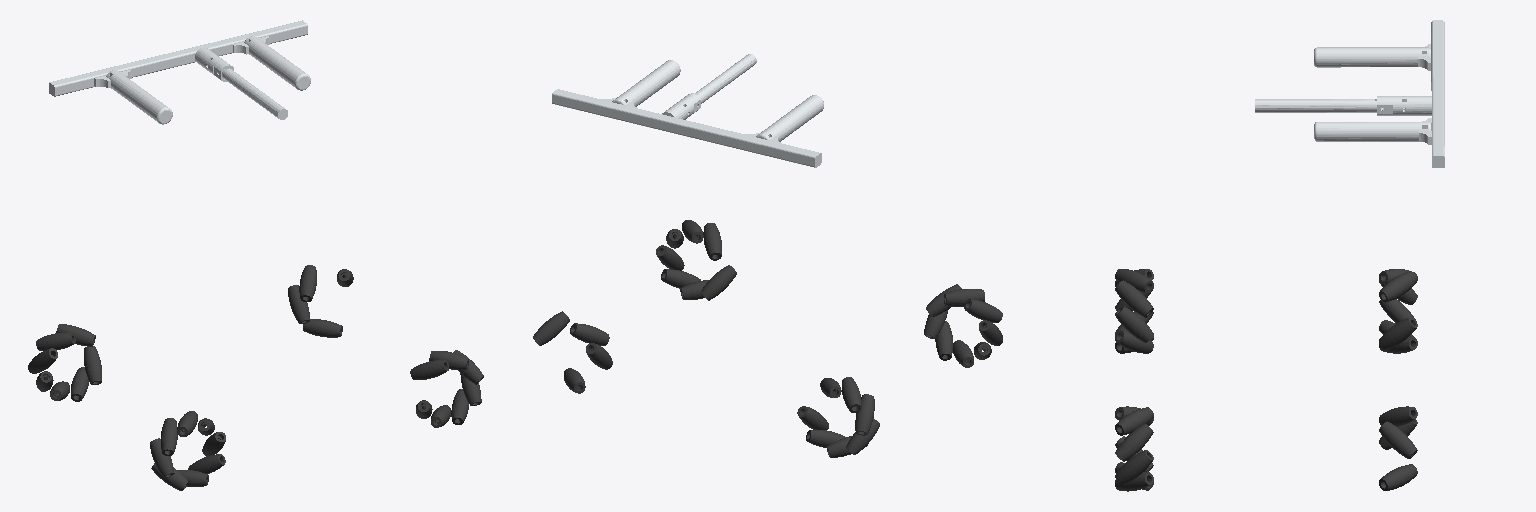
--- Render facts (derived) ---
The picture shows the robot from 3 angles, left to right: view 1: azimuth 30°, elevation 25°; view 2: azimuth 150°, elevation 25°; view 3: azimuth 270°, elevation 25°; orthographic projection.
Model Mobile_Base_Holder_6 with 39 links and 38 joints (36 continuous, 2 prismatic), rooted at Mobile_Base, posed all joints at 0.
Links seen in each view (by area): view 1: Pin_Head_L, Roller_LF_6, Roller_LR_8, Roller_RF_5, Roller_LR_3, Roller_RR_8, Roller_LF_3, Roller_LF_4; view 2: Pin_Head_L, Roller_RF_7, Roller_LF_1, Roller_LR_4, Roller_LF_3, Roller_RR_8, Roller_RF_5, Roller_RR_7, Roller_LR_3; view 3: Pin_Head_L, Roller_LF_1, Roller_RF_3, Roller_RR_6, Roller_RR_5, Roller_RF_2, Roller_LR_8, Roller_LR_2, Roller_LF_6, Roller_RF_4, Roller_LF_3, Roller_RR_7 (+1 smaller).
Boxes of the visible links, x1,y1,x2,y2 form: Pin_Head_L: (49, 20, 310, 124); Roller_LF_6: (303, 319, 342, 337); Roller_LR_8: (84, 346, 101, 384); Roller_RF_5: (410, 360, 448, 379); Roller_LR_3: (36, 333, 75, 350); Roller_RR_8: (161, 418, 177, 455); Roller_LF_3: (299, 265, 316, 301); Roller_LF_4: (288, 285, 309, 323); Pin_Head_L: (552, 54, 823, 167); Roller_RF_7: (700, 265, 736, 300); Roller_LF_1: (533, 311, 569, 345); Roller_LR_4: (855, 394, 874, 435); Roller_LF_3: (570, 323, 609, 345); Roller_RR_8: (964, 299, 1002, 322); Roller_RF_5: (703, 223, 721, 260); Roller_RR_7: (944, 289, 984, 306); Roller_LR_3: (842, 377, 861, 412); Pin_Head_L: (1255, 20, 1444, 167); Roller_LF_1: (1379, 421, 1417, 458); Roller_RF_3: (1115, 424, 1153, 461); Roller_RR_6: (1115, 280, 1153, 317); Roller_RR_5: (1115, 306, 1153, 342); Roller_RF_2: (1115, 450, 1153, 484); Roller_LR_8: (1379, 317, 1417, 349); Roller_LR_2: (1379, 271, 1417, 302); Roller_LF_6: (1379, 464, 1417, 490); Roller_RF_4: (1115, 407, 1153, 435); Roller_LF_3: (1379, 406, 1417, 426); Roller_RR_7: (1115, 269, 1153, 292).
Bounding box of the posed robot: 0.6137 × 0.4931 × 0.549 m (x, y, z).
Meshes: 39 distinct files referenced, 27 mesh visuals loaded (27 binary STL); not drawn: 12 (reference not matched to a file when rendering).

The robot description file, URDF, robot "Mobile_Base_Holder_6":
<?xml version="1.0" encoding="utf-8"?>
<!-- This URDF was automatically created by SolidWorks to URDF Exporter! Originally created by Stephen Brawner ([email redacted]) 
     Commit Version: 1.6.0-4-g7f85cfe  Build Version: 1.6.7995.38578
     For more information, please see http://wiki.ros.org/sw_urdf_exporter -->
<robot
  name="Mobile_Base_Holder_6">
  <link
    name="Mobile_Base">
    <inertial>
      <origin
        xyz="0.00270794889201253 0.000926242394781646 -0.128115066829716"
        rpy="0 0 0" />
      <mass
        value="13.0496430135498" />
      <inertia
        ixx="0.078428885336732"
        ixy="-0.000424260125405416"
        ixz="-4.99662127671641E-08"
        iyy="0.101100659734584"
        iyz="-1.90955777107521E-07"
        izz="0.156190952643998" />
    </inertial>
    <visual>
      <origin
        xyz="0 0 0"
        rpy="0 0 0" />
      <geometry>
        <mesh
          filename="package://Mobile_Base_Holder_6/meshes/Mobile_Base.STL" />
      </geometry>
      <material
        name="">
        <color
          rgba="0.792156862745098 0.819607843137255 0.933333333333333 1" />
      </material>
    </visual>
    <collision>
      <origin
        xyz="0 0 0"
        rpy="0 0 0" />
      <geometry>
        <mesh
          filename="package://Mobile_Base_Holder_6/meshes/Mobile_Base.STL" />
      </geometry>
    </collision>
  </link>
  <link
    name="Wheel_LF">
    <inertial>
      <origin
        xyz="-3.68604325448052E-05 8.74696815872378E-06 -0.000155511793327234"
        rpy="0 0 0" />
      <mass
        value="0.77404110274982" />
      <inertia
        ixx="0.00055506881532458"
        ixy="2.15732280355355E-07"
        ixz="-1.8565434672159E-10"
        iyy="0.000555930826369469"
        iyz="2.2728326005673E-10"
        izz="0.00098890621085001" />
    </inertial>
    <visual>
      <origin
        xyz="0 0 0"
        rpy="0 0 0" />
      <geometry>
        <mesh
          filename="package://Mobile_Base_Holder_6/meshes/Wheel_LF.STL" />
      </geometry>
      <material
        name="">
        <color
          rgba="0.898039215686275 0.917647058823529 0.929411764705882 1" />
      </material>
    </visual>
    <collision>
      <origin
        xyz="0 0 0"
        rpy="0 0 0" />
      <geometry>
        <mesh
          filename="package://Mobile_Base_Holder_6/meshes/Wheel_LF.STL" />
      </geometry>
    </collision>
  </link>
  <joint
    name="J_Wheel_LF"
    type="continuous">
    <origin
      xyz="0.243373703143014 0.196999999999994 -0.410500520826094"
      rpy="1.5707963267949 -0.698892577239709 0" />
    <parent
      link="Mobile_Base" />
    <child
      link="Wheel_LF" />
    <axis
      xyz="0 0 1" />
  </joint>
  <link
    name="Roller_LF_1">
    <inertial>
      <origin
        xyz="-3.83179044050053E-10 -5.66471425322845E-10 -6.83960459380017E-08"
        rpy="0 0 0" />
      <mass
        value="0.0352584429300114" />
      <inertia
        ixx="1.04260747160859E-05"
        ixy="-3.74986144430689E-16"
        ixz="3.16159847563384E-11"
        iyy="1.04260747162553E-05"
        iyz="-7.59166288672171E-12"
        izz="3.2461714596406E-06" />
    </inertial>
    <visual>
      <origin
        xyz="0 0 0"
        rpy="0 0 0" />
      <geometry>
        <mesh
          filename="package://Mobile_Base_Holder_6/meshes/Roller_LF_1.STL" />
      </geometry>
      <material
        name="">
        <color
          rgba="0.298039215686275 0.298039215686275 0.298039215686275 1" />
      </material>
    </visual>
    <collision>
      <origin
        xyz="0 0 0"
        rpy="0 0 0" />
      <geometry>
        <mesh
          filename="package://Mobile_Base_Holder_6/meshes/Roller_LF_1.STL" />
      </geometry>
    </collision>
  </link>
  <joint
    name="J_Roller_LF_1"
    type="continuous">
    <origin
      xyz="0.0495000000000021 0 0"
      rpy="0 0.785398163397682 1.57079632679483" />
    <parent
      link="Wheel_LF" />
    <child
      link="Roller_LF_1" />
    <axis
      xyz="0 0 -1" />
  </joint>
  <link
    name="Roller_LF_2">
    <inertial>
      <origin
        xyz="-3.09857084435095E-10 1.10555131715984E-09 -4.17113807937852E-08"
        rpy="0 0 0" />
      <mass
        value="0.0352584429300109" />
      <inertia
        ixx="1.04260761905346E-05"
        ixy="2.1024734179391E-16"
        ixz="-2.4788845569513E-11"
        iyy="1.04260761890094E-05"
        iyz="-2.10620761229012E-11"
        izz="3.2461714605291E-06" />
    </inertial>
    <visual>
      <origin
        xyz="0 0 0"
        rpy="0 0 0" />
      <geometry>
        <mesh
          filename="package://Mobile_Base_Holder_6/meshes/Roller_LF_2.STL" />
      </geometry>
      <material
        name="">
        <color
          rgba="0.298039215686275 0.298039215686275 0.298039215686275 1" />
      </material>
    </visual>
    <collision>
      <origin
        xyz="0 0 0"
        rpy="0 0 0" />
      <geometry>
        <mesh
          filename="package://Mobile_Base_Holder_6/meshes/Roller_LF_2.STL" />
      </geometry>
    </collision>
  </link>
  <joint
    name="J_Roller_LF_2"
    type="continuous">
    <origin
      xyz="0.0350017856687387 0.0350017856687551 0"
      rpy="0 0.785398163397817 2.35619449019253" />
    <parent
      link="Wheel_LF" />
    <child
      link="Roller_LF_2" />
    <axis
      xyz="0 0 -1" />
  </joint>
  <link
    name="Roller_LF_3">
    <inertial>
      <origin
        xyz="7.28457724696874E-09 2.76751460637215E-09 2.27604659563951E-08"
        rpy="0 0 0" />
      <mass
        value="0.0352584429300112" />
      <inertia
        ixx="1.04260768064924E-05"
        ixy="-1.98661176213904E-14"
        ixz="-3.25498755616683E-11"
        iyy="1.04260768503918E-05"
        iyz="-1.43134028341921E-12"
        izz="3.2461715182147E-06" />
    </inertial>
    <visual>
      <origin
        xyz="0 0 0"
        rpy="0 0 0" />
      <geometry>
        <mesh
          filename="package://Mobile_Base_Holder_6/meshes/Roller_LF_3.STL" />
      </geometry>
      <material
        name="">
        <color
          rgba="0.298039215686275 0.298039215686275 0.298039215686275 1" />
      </material>
    </visual>
    <collision>
      <origin
        xyz="0 0 0"
        rpy="0 0 0" />
      <geometry>
        <mesh
          filename="package://Mobile_Base_Holder_6/meshes/Roller_LF_3.STL" />
      </geometry>
    </collision>
  </link>
  <joint
    name="J_Roller_LF_3"
    type="continuous">
    <origin
      xyz="0 0.0494999999999665 0"
      rpy="0 0.785398163397733 -3.14159265358936" />
    <parent
      link="Wheel_LF" />
    <child
      link="Roller_LF_3" />
    <axis
      xyz="0 0 -1" />
  </joint>
  <link
    name="Roller_LF_4">
    <inertial>
      <origin
        xyz="-8.85001738559765E-10 8.87343976074817E-10 -1.82681261229334E-08"
        rpy="0 0 0" />
      <mass
        value="0.0352584429300108" />
      <inertia
        ixx="1.04260768940345E-05"
        ixy="6.84323106163551E-16"
        ixz="-1.09712169219895E-11"
        iyy="1.04260768941283E-05"
        iyz="3.06406602966855E-11"
        izz="3.24617146037585E-06" />
    </inertial>
    <visual>
      <origin
        xyz="0 0 0"
        rpy="0 0 0" />
      <geometry>
        <mesh
          filename="package://Mobile_Base_Holder_6/meshes/Roller_LF_4.STL" />
      </geometry>
      <material
        name="">
        <color
          rgba="0.298039215686275 0.298039215686275 0.298039215686275 1" />
      </material>
    </visual>
    <collision>
      <origin
        xyz="0 0 0"
        rpy="0 0 0" />
      <geometry>
        <mesh
          filename="package://Mobile_Base_Holder_6/meshes/Roller_LF_4.STL" />
      </geometry>
    </collision>
  </link>
  <joint
    name="J_Roller_LF_4"
    type="continuous">
    <origin
      xyz="-0.0350017856687272 0.0350017856687195 0"
      rpy="0 0.785398163397478 -2.35619449019179" />
    <parent
      link="Wheel_LF" />
    <child
      link="Roller_LF_4" />
    <axis
      xyz="0 0 -1" />
  </joint>
  <link
    name="Roller_LF_5">
    <inertial>
      <origin
        xyz="1.60439111440702E-08 5.69080083057116E-09 1.2380305391968E-07"
        rpy="0 0 0" />
      <mass
        value="0.035258442930011" />
      <inertia
        ixx="1.04260694141623E-05"
        ixy="-9.94372509425932E-14"
        ixz="-1.26413841572443E-11"
        iyy="1.04260696259208E-05"
        iyz="2.99325036380074E-11"
        izz="3.24617174875245E-06" />
    </inertial>
    <visual>
      <origin
        xyz="0 0 0"
        rpy="0 0 0" />
      <geometry>
        <mesh
          filename="package://Mobile_Base_Holder_6/meshes/Roller_LF_5.STL" />
      </geometry>
      <material
        name="">
        <color
          rgba="0.298039215686275 0.298039215686275 0.298039215686275 1" />
      </material>
    </visual>
    <collision>
      <origin
        xyz="0 0 0"
        rpy="0 0 0" />
      <geometry>
        <mesh
          filename="package://Mobile_Base_Holder_6/meshes/Roller_LF_5.STL" />
      </geometry>
    </collision>
  </link>
  <joint
    name="J_Roller_LF_5"
    type="continuous">
    <origin
      xyz="-0.0495000000000251 0 0"
      rpy="0 0.785398163397209 -1.57079632679442" />
    <parent
      link="Wheel_LF" />
    <child
      link="Roller_LF_5" />
    <axis
      xyz="0 0 -1" />
  </joint>
  <link
    name="Roller_LF_6">
    <inertial>
      <origin
        xyz="-3.82563758449805E-10 -1.68518196619338E-09 4.39527294004982E-08"
        rpy="0 0 0" />
      <mass
        value="0.035258442930011" />
      <inertia
        ixx="1.04260760941714E-05"
        ixy="-2.85658314511046E-16"
        ixz="2.80429237867042E-11"
        iyy="1.04260760917002E-05"
        iyz="1.65168143896448E-11"
        izz="3.24617146148314E-06" />
    </inertial>
    <visual>
      <origin
        xyz="0 0 0"
        rpy="0 0 0" />
      <geometry>
        <mesh
          filename="package://Mobile_Base_Holder_6/meshes/Roller_LF_6.STL" />
      </geometry>
      <material
        name="">
        <color
          rgba="0.298039215686275 0.298039215686275 0.298039215686275 1" />
      </material>
    </visual>
    <collision>
      <origin
        xyz="0 0 0"
        rpy="0 0 0" />
      <geometry>
        <mesh
          filename="package://Mobile_Base_Holder_6/meshes/Roller_LF_6.STL" />
      </geometry>
    </collision>
  </link>
  <joint
    name="J_Roller_LF_6"
    type="continuous">
    <origin
      xyz="-0.0350017856687449 -0.0350017856687672 0"
      rpy="0 0.785398163397077 -0.785398163397211" />
    <parent
      link="Wheel_LF" />
    <child
      link="Roller_LF_6" />
    <axis
      xyz="0 0 -1" />
  </joint>
  <link
    name="Roller_LF_7">
    <inertial>
      <origin
        xyz="4.28941293595386E-09 8.82995843110024E-10 -1.01682180037033E-07"
        rpy="0 0 0" />
      <mass
        value="0.0352584429300109" />
      <inertia
        ixx="1.04260718732603E-05"
        ixy="-4.33397981165643E-15"
        ixz="2.94154428780881E-11"
        iyy="1.04260718866193E-05"
        iyz="-1.40054288998785E-11"
        izz="3.24617147470388E-06" />
    </inertial>
    <visual>
      <origin
        xyz="0 0 0"
        rpy="0 0 0" />
      <geometry>
        <mesh
          filename="package://Mobile_Base_Holder_6/meshes/Roller_LF_7.STL" />
      </geometry>
      <material
        name="">
        <color
          rgba="0.298039215686275 0.298039215686275 0.298039215686275 1" />
      </material>
    </visual>
    <collision>
      <origin
        xyz="0 0 0"
        rpy="0 0 0" />
      <geometry>
        <mesh
          filename="package://Mobile_Base_Holder_6/meshes/Roller_LF_7.STL" />
      </geometry>
    </collision>
  </link>
  <joint
    name="J_Roller_LF_7"
    type="continuous">
    <origin
      xyz="0 -0.0494999999999995 0"
      rpy="0 0.785398163397161 0" />
    <parent
      link="Wheel_LF" />
    <child
      link="Roller_LF_7" />
    <axis
      xyz="0 0 -1" />
  </joint>
  <link
    name="Roller_LF_8">
    <inertial>
      <origin
        xyz="-4.45605996546306E-10 -1.68479385997955E-09 4.58650016577078E-08"
        rpy="0 0 0" />
      <mass
        value="0.035258442930011" />
      <inertia
        ixx="1.0426076009136E-05"
        ixy="-3.83896719277567E-16"
        ixz="3.2272131431729E-11"
        iyy="1.04260760061882E-05"
        iyz="-4.12147536670223E-12"
        izz="3.24617146194942E-06" />
    </inertial>
    <visual>
      <origin
        xyz="0 0 0"
        rpy="0 0 0" />
      <geometry>
        <mesh
          filename="package://Mobile_Base_Holder_6/meshes/Roller_LF_8.STL" />
      </geometry>
      <material
        name="">
        <color
          rgba="0.298039215686275 0.298039215686275 0.298039215686275 1" />
      </material>
    </visual>
    <collision>
      <origin
        xyz="0 0 0"
        rpy="0 0 0" />
      <geometry>
        <mesh
          filename="package://Mobile_Base_Holder_6/meshes/Roller_LF_8.STL" />
      </geometry>
    </collision>
  </link>
  <joint
    name="J_Roller_LF_8"
    type="continuous">
    <origin
      xyz="0.0350017856687419 -0.0350017856687232 0"
      rpy="0 0.785398163397412 0.785398163397306" />
    <parent
      link="Wheel_LF" />
    <child
      link="Roller_LF_8" />
    <axis
      xyz="0 0 -1" />
  </joint>
  <link
    name="Wheel_LR">
    <inertial>
      <origin
        xyz="2.28750886412388E-05 4.38499760812283E-05 -0.000160556590807603"
        rpy="0 0 0" />
      <mass
        value="0.286935584537691" />
      <inertia
        ixx="0.000205567523367468"
        ixy="4.86825936008885E-10"
        ixz="5.22777710432301E-10"
        iyy="0.000205922237695722"
        iyz="8.40224944649351E-11"
        izz="0.000366267561115225" />
    </inertial>
    <visual>
      <origin
        xyz="0 0 0"
        rpy="0 0 0" />
      <geometry>
        <mesh
          filename="package://Mobile_Base_Holder_6/meshes/Wheel_LR.STL" />
      </geometry>
      <material
        name="">
        <color
          rgba="0.792156862745098 0.819607843137255 0.933333333333333 1" />
      </material>
    </visual>
    <collision>
      <origin
        xyz="0 0 0"
        rpy="0 0 0" />
      <geometry>
        <mesh
          filename="package://Mobile_Base_Holder_6/meshes/Wheel_LR.STL" />
      </geometry>
    </collision>
  </link>
  <joint
    name="J_Wheel_LR"
    type="continuous">
    <origin
      xyz="-0.243373703143012 0.197 -0.410500520826101"
      rpy="1.5707963267949 -0.479686767241463 0" />
    <parent
      link="Mobile_Base" />
    <child
      link="Wheel_LR" />
    <axis
      xyz="0 0 1" />
  </joint>
  <link
    name="Roller_LR_1">
    <inertial>
      <origin
        xyz="1.67015073992971E-08 1.25504300840795E-08 1.06866803406547E-07"
        rpy="0 0 0" />
      <mass
        value="0.0352584429300111" />
      <inertia
        ixx="1.04260715177521E-05"
        ixy="-2.16967544708089E-13"
        ixz="-9.22230104503352E-12"
        iyy="1.04260716218938E-05"
        iyz="3.09410049823601E-11"
        izz="3.24617190478418E-06" />
    </inertial>
    <visual>
      <origin
        xyz="0 0 0"
        rpy="0 0 0" />
      <geometry>
        <mesh
          filename="package://Mobile_Base_Holder_6/meshes/Roller_LR_1.STL" />
      </geometry>
      <material
        name="">
        <color
          rgba="0.298039215686275 0.298039215686275 0.298039215686275 1" />
      </material>
    </visual>
    <collision>
      <origin
        xyz="0 0 0"
        rpy="0 0 0" />
      <geometry>
        <mesh
          filename="package://Mobile_Base_Holder_6/meshes/Roller_LR_1.STL" />
      </geometry>
    </collision>
  </link>
  <joint
    name="J_Roller_LR_1"
    type="continuous">
    <origin
      xyz="0.0494999999999991 0 0"
      rpy="0 0.785398163397451 -1.57079632679496" />
    <parent
      link="Wheel_LR" />
    <child
      link="Roller_LR_1" />
    <axis
      xyz="0 0 -1" />
  </joint>
  <link
    name="Roller_LR_2">
    <inertial>
      <origin
        xyz="7.42938899289669E-09 -8.73704070203374E-09 8.61521962380873E-08"
        rpy="0 0 0" />
      <mass
        value="0.0352584429300111" />
      <inertia
        ixx="1.04260734013829E-05"
        ixy="6.31409768982622E-14"
        ixz="9.33284556850362E-12"
        iyy="1.04260733892384E-05"
        iyz="3.12763115730798E-11"
        izz="3.24617158559965E-06" />
    </inertial>
    <visual>
      <origin
        xyz="0 0 0"
        rpy="0 0 0" />
      <geometry>
        <mesh
          filename="package://Mobile_Base_Holder_6/meshes/Roller_LR_2.STL" />
      </geometry>
      <material
        name="">
        <color
          rgba="0.298039215686275 0.298039215686275 0.298039215686275 1" />
      </material>
    </visual>
    <collision>
      <origin
        xyz="0 0 0"
        rpy="0 0 0" />
      <geometry>
        <mesh
          filename="package://Mobile_Base_Holder_6/meshes/Roller_LR_2.STL" />
      </geometry>
    </collision>
  </link>
  <joint
    name="J_Roller_LR_2"
    type="continuous">
    <origin
      xyz="0.0350017856687349 0.0350017856687338 0"
      rpy="0 0.785398163397457 -0.785398163397507" />
    <parent
      link="Wheel_LR" />
    <child
      link="Roller_LR_2" />
    <axis
      xyz="0 0 -1" />
  </joint>
  <link
    name="Roller_LR_3">
    <inertial>
      <origin
        xyz="-2.48421372361918E-09 -3.8649139000313E-08 3.87014362224214E-09"
        rpy="0 0 0" />
      <mass
        value="0.0352584429300109" />
      <inertia
        ixx="1.02720896688601E-05"
        ixy="5.25739053234605E-07"
        ixz="8.97501577058071E-07"
        iyy="8.63112731680581E-06"
        iyz="-3.06419984523447E-06"
        izz="5.19511092199813E-06" />
    </inertial>
    <visual>
      <origin
        xyz="0 0 0"
        rpy="0 0 0" />
      <geometry>
        <mesh
          filename="package://Mobile_Base_Holder_6/meshes/Roller_LR_3.STL" />
      </geometry>
      <material
        name="">
        <color
          rgba="0.298039215686275 0.298039215686275 0.298039215686275 1" />
      </material>
    </visual>
    <collision>
      <origin
        xyz="0 0 0"
        rpy="0 0 0" />
      <geometry>
        <mesh
          filename="package://Mobile_Base_Holder_6/meshes/Roller_LR_3.STL" />
      </geometry>
    </collision>
  </link>
  <joint
    name="J_Roller_LR_3"
    type="continuous">
    <origin
      xyz="0 0.0494999999999999 0"
      rpy="0 0.785398163397457 -0.785398163397507" />
    <parent
      link="Wheel_LR" />
    <child
      link="Roller_LR_3" />
    <axis
      xyz="0.146446609406722 -0.499999999999993 -0.853553390593279" />
  </joint>
  <link
    name="Roller_LR_4">
    <inertial>
      <origin
        xyz="7.63942531456507E-09 -1.99390438604397E-08 1.1846500916346E-07"
        rpy="0 0 0" />
      <mass
        value="0.0352584429300108" />
      <inertia
        ixx="1.0426070450002E-05"
        ixy="1.65232144271412E-13"
        ixz="3.13331495062905E-11"
        iyy="1.04260701130261E-05"
        iyz="-7.04608640492049E-12"
        izz="3.24617193052735E-06" />
    </inertial>
    <visual>
      <origin
        xyz="0 0 0"
        rpy="0 0 0" />
      <geometry>
        <mesh
          filename="package://Mobile_Base_Holder_6/meshes/Roller_LR_4.STL" />
      </geometry>
      <material
        name="">
        <color
          rgba="0.298039215686275 0.298039215686275 0.298039215686275 1" />
      </material>
    </visual>
    <collision>
      <origin
        xyz="0 0 0"
        rpy="0 0 0" />
      <geometry>
        <mesh
          filename="package://Mobile_Base_Holder_6/meshes/Roller_LR_4.STL" />
      </geometry>
    </collision>
  </link>
  <joint
    name="J_Roller_LR_4"
    type="continuous">
    <origin
      xyz="-0.0350017856687312 0.035001785668738 0"
      rpy="0 0.78539816339745 0.785398163397392" />
    <parent
      link="Wheel_LR" />
    <child
      link="Roller_LR_4" />
    <axis
      xyz="0 0 -1" />
  </joint>
  <link
    name="Roller_LR_5">
    <inertial>
      <origin
        xyz="-1.13800639467421E-08 -2.23572448332376E-08 -1.39705523066747E-07"
        rpy="0 0 0" />
      <mass
        value="0.035258442930011" />
      <inertia
        ixx="1.04260677298263E-05"
        ixy="-2.58295319819987E-13"
        ixz="1.92470991858287E-11"
        iyy="1.0426067392854E-05"
        iyz="-2.66026490431678E-11"
        izz="3.24617207497984E-06" />
    </inertial>
    <visual>
      <origin
        xyz="0 0 0"
        rpy="0 0 0" />
      <geometry>
        <mesh
          filename="package://Mobile_Base_Holder_6/meshes/Roller_LR_5.STL" />
      </geometry>
      <material
        name="">
        <color
          rgba="0.298039215686275 0.298039215686275 0.298039215686275 1" />
      </material>
    </visual>
    <collision>
      <origin
        xyz="0 0 0"
        rpy="0 0 0" />
      <geometry>
        <mesh
          filename="package://Mobile_Base_Holder_6/meshes/Roller_LR_5.STL" />
      </geometry>
    </collision>
  </link>
  <joint
    name="J_Roller_LR_5"
    type="continuous">
    <origin
      xyz="-0.0494999999999998 0 0"
      rpy="0 0.785398163397442 1.57079632679484" />
    <parent
      link="Wheel_LR" />
    <child
      link="Roller_LR_5" />
    <axis
      xyz="0 0 -1" />
  </joint>
  <link
    name="Roller_LR_6">
    <inertial>
      <origin
        xyz="2.33893432399768E-10 1.54178633748892E-09 -2.60845123278841E-08"
        rpy="0 0 0" />
      <mass
        value="0.0352584429300111" />
      <inertia
        ixx="1.04260767232418E-05"
        ixy="-3.71422253305116E-16"
        ixz="3.32532285782223E-12"
        iyy="1.04260767205084E-05"
        iyz="-3.2358412923544E-11"
        izz="3.24617146183828E-06" />
    </inertial>
    <visual>
      <origin
        xyz="0 0 0"
        rpy="0 0 0" />
      <geometry>
        <mesh
          filename="package://Mobile_Base_Holder_6/meshes/Roller_LR_6.STL" />
      </geometry>
      <material
        name="">
        <color
          rgba="0.298039215686275 0.298039215686275 0.298039215686275 1" />
      </material>
    </visual>
    <collision>
      <origin
        xyz="0 0 0"
        rpy="0 0 0" />
      <geometry>
        <mesh
          filename="package://Mobile_Base_Holder_6/meshes/Roller_LR_6.STL" />
      </geometry>
    </collision>
  </link>
  <joint
    name="J_Roller_LR_6"
    type="continuous">
    <origin
      xyz="-0.0350017856687373 -0.035001785668729 0"
      rpy="0 0.785398163397437 2.35619449019228" />
    <parent
      link="Wheel_LR" />
    <child
      link="Roller_LR_6" />
    <axis
      xyz="0 0 -1" />
  </joint>
  <link
    name="Roller_LR_7">
    <inertial>
      <origin
        xyz="1.99958341828843E-08 1.8472178411888E-08 -5.58086615809472E-09"
        rpy="0 0 0" />
      <mass
        value="0.0352584429300108" />
      <inertia
        ixx="1.04260773904698E-05"
        ixy="-3.71094202950359E-13"
        ixz="-2.21142032202126E-11"
        iyy="1.04260774492563E-05"
        iyz="-2.38143341729084E-11"
        izz="3.24617220352037E-06" />
    </inertial>
    <visual>
      <origin
        xyz="0 0 0"
        rpy="0 0 0" />
      <geometry>
        <mesh
          filename="package://Mobile_Base_Holder_6/meshes/Roller_LR_7.STL" />
      </geometry>
      <material
        name="">
        <color
          rgba="0.298039215686275 0.298039215686275 0.298039215686275 1" />
      </material>
    </visual>
    <collision>
      <origin
        xyz="0 0 0"
        rpy="0 0 0" />
      <geometry>
        <mesh
          filename="package://Mobile_Base_Holder_6/meshes/Roller_LR_7.STL" />
      </geometry>
    </collision>
  </link>
  <joint
    name="J_Roller_LR_7"
    type="continuous">
    <origin
      xyz="0 -0.0494999999999981 0"
      rpy="0 0.785398163397437 3.14159265358973" />
    <parent
      link="Wheel_LR" />
    <child
      link="Roller_LR_7" />
    <axis
      xyz="0 0 -1" />
  </joint>
  <link
    name="Roller_LR_8">
    <inertial>
      <origin
        xyz="-4.27786778223194E-10 1.50381363750451E-08 -1.39886802030809E-07"
        rpy="0 0 0" />
      <mass
        value="0.0352584429300108" />
      <inertia
        ixx="1.04260675049186E-05"
        ixy="-2.07385810388201E-15"
        ixz="-2.69590085768581E-11"
        iyy="1.04260672661416E-05"
        iyz="-1.75459807670728E-11"
        izz="3.24617169716258E-06" />
    </inertial>
    <visual>
      <origin
        xyz="0 0 0"
        rpy="0 0 0" />
      <geometry>
        <mesh
          filename="package://Mobile_Base_Holder_6/meshes/Roller_LR_8.STL" />
      </geometry>
      <material
        name="">
        <color
          rgba="0.298039215686275 0.298039215686275 0.298039215686275 1" />
      </material>
    </visual>
    <collision>
      <origin
        xyz="0 0 0"
        rpy="0 0 0" />
      <geometry>
        <mesh
          filename="package://Mobile_Base_Holder_6/meshes/Roller_LR_8.STL" />
      </geometry>
    </collision>
  </link>
  <joint
    name="J_Roller_LR_8"
    type="continuous">
    <origin
      xyz="0.0350017856687324 -0.035001785668733 0"
      rpy="0 0.785398163397443 -2.35619449019241" />
    <parent
      link="Wheel_LR" />
    <child
      link="Roller_LR_8" />
    <axis
      xyz="0 0 -1" />
  </joint>
  <link
    name="Wheel_RF">
    <inertial>
      <origin
        xyz="2.28374030626366E-05 4.3913212168234E-05 -0.000160482316143507"
        rpy="0 0 0" />
      <mass
        value="0.286934748749192" />
      <inertia
        ixx="0.00020556617413596"
        ixy="1.10285044985226E-14"
        ixz="5.73034041739461E-10"
        iyy="0.000205921402223248"
        iyz="1.10288592805437E-14"
        izz="0.000366265336032199" />
    </inertial>
    <visual>
      <origin
        xyz="0 0 0"
        rpy="0 0 0" />
      <geometry>
        <mesh
          filename="package://Mobile_Base_Holder_6/meshes/Wheel_RF.STL" />
      </geometry>
      <material
        name="">
        <color
          rgba="0.792156862745098 0.819607843137255 0.933333333333333 1" />
      </material>
    </visual>
    <collision>
      <origin
        xyz="0 0 0"
        rpy="0 0 0" />
      <geometry>
        <mesh
          filename="package://Mobile_Base_Holder_6/meshes/Wheel_RF.STL" />
      </geometry>
    </collision>
  </link>
  <joint
    name="J_Wheel_RF"
    type="continuous">
    <origin
      xyz="0.243373703143008 -0.197 -0.410500520826103"
      rpy="-1.57079632679488 0.943014448657122 0" />
    <parent
      link="Mobile_Base" />
    <child
      link="Wheel_RF" />
    <axis
      xyz="0 0 1" />
  </joint>
  <link
    name="Roller_RF_1">
    <inertial>
      <origin
        xyz="-2.28876292918123E-08 1.67575591736302E-08 -3.70525532478183E-08"
        rpy="0 0 0" />
      <mass
        value="0.0352584429300108" />
      <inertia
        ixx="1.04260766356289E-05"
        ixy="3.79660531325495E-13"
        ixz="-2.75547408292055E-11"
        iyy="1.04260768755305E-05"
        iyz="1.77785602475058E-11"
        izz="3.24617225532452E-06" />
    </inertial>
    <visual>
      <origin
        xyz="0 0 0"
        rpy="0 0 0" />
      <geometry>
        <mesh
          filename="package://Mobile_Base_Holder_6/meshes/Roller_RF_1.STL" />
      </geometry>
      <material
        name="">
        <color
          rgba="0.298039215686275 0.298039215686275 0.298039215686275 1" />
      </material>
    </visual>
    <collision>
      <origin
        xyz="0 0 0"
        rpy="0 0 0" />
      <geometry>
        <mesh
          filename="package://Mobile_Base_Holder_6/meshes/Roller_RF_1.STL" />
      </geometry>
    </collision>
  </link>
  <joint
    name="J_Roller_RF_1"
    type="continuous">
    <origin
      xyz="0.0494999999999999 0 0"
      rpy="0 -0.785398163397448 1.57079632679489" />
    <parent
      link="Wheel_RF" />
    <child
      link="Roller_RF_1" />
    <axis
      xyz="0 0 -1" />
  </joint>
  <link
    name="Roller_RF_2">
    <inertial>
      <origin
        xyz="-7.58374141263118E-10 -2.51046117227816E-09 5.45374427840528E-08"
        rpy="0 0 0" />
      <mass
        value="0.0352584429300108" />
      <inertia
        ixx="1.04260755789725E-05"
        ixy="-1.83702631540117E-15"
        ixz="1.253382841623E-11"
        iyy="1.04260755718119E-05"
        iyz="-2.99854305528883E-11"
        izz="3.24617146700458E-06" />
    </inertial>
    <visual>
      <origin
        xyz="0 0 0"
        rpy="0 0 0" />
      <geometry>
        <mesh
          filename="package://Mobile_Base_Holder_6/meshes/Roller_RF_2.STL" />
      </geometry>
      <material
        name="">
        <color
          rgba="0.298039215686275 0.298039215686275 0.298039215686275 1" />
      </material>
    </visual>
    <collision>
      <origin
        xyz="0 0 0"
        rpy="0 0 0" />
      <geometry>
        <mesh
          filename="package://Mobile_Base_Holder_6/meshes/Roller_RF_2.STL" />
      </geometry>
    </collision>
  </link>
  <joint
    name="J_Roller_RF_2"
    type="continuous">
    <origin
      xyz="0.0350017856687338 -0.0350017856687341 0"
      rpy="0 -0.785398163397438 0.785398163397447" />
    <parent
      link="Wheel_RF" />
    <child
      link="Roller_RF_2" />
    <axis
      xyz="0 0 -1" />
  </joint>
  <link
    name="Roller_RF_3">
    <inertial>
      <origin
        xyz="1.62190583186117E-08 -2.63133487221623E-09 1.51501947903698E-07"
        rpy="0 0 0" />
      <mass
        value="0.0352584429300107" />
      <inertia
        ixx="1.04260655466723E-05"
        ixy="3.0405123897277E-14"
        ixz="-4.03828219583914E-12"
        iyy="1.04260658049207E-05"
        iyz="3.23463899735662E-11"
        izz="3.24617172323519E-06" />
    </inertial>
    <visual>
      <origin
        xyz="0 0 0"
        rpy="0 0 0" />
      <geometry>
        <mesh
          filename="package://Mobile_Base_Holder_6/meshes/Roller_RF_3.STL" />
      </geometry>
      <material
        name="">
        <color
          rgba="0.298039215686275 0.298039215686275 0.298039215686275 1" />
      </material>
    </visual>
    <collision>
      <origin
        xyz="0 0 0"
        rpy="0 0 0" />
      <geometry>
        <mesh
          filename="package://Mobile_Base_Holder_6/meshes/Roller_RF_3.STL" />
      </geometry>
    </collision>
  </link>
  <joint
    name="J_Roller_RF_3"
    type="continuous">
    <origin
      xyz="0 -0.0495 0"
      rpy="-0.609288783050202 0.53106684913527 2.19857820493268" />
    <parent
      link="Wheel_RF" />
    <child
      link="Roller_RF_3" />
    <axis
      xyz="0 0 -1" />
  </joint>
  <link
    name="Roller_RF_4">
    <inertial>
      <origin
        xyz="-1.10020631494123E-09 -2.32654606691085E-09 5.17692528845259E-08"
        rpy="0 0 0" />
      <mass
        value="0.0352584429300106" />
      <inertia
        ixx="1.04260757252243E-05"
        ixy="-2.62052734468842E-15"
        ixz="1.15087387759186E-11"
        iyy="1.04260757196874E-05"
        iyz="-3.03999851193014E-11"
        izz="3.2461714665715E-06" />
    </inertial>
    <visual>
      <origin
        xyz="0 0 0"
        rpy="0 0 0" />
      <geometry>
        <mesh
          filename="package://Mobile_Base_Holder_6/meshes/Roller_RF_4.STL" />
      </geometry>
      <material
        name="">
        <color
          rgba="0.298039215686275 0.298039215686275 0.298039215686275 1" />
      </material>
    </visual>
    <collision>
      <origin
        xyz="0 0 0"
        rpy="0 0 0" />
      <geometry>
        <mesh
          filename="package://Mobile_Base_Holder_6/meshes/Roller_RF_4.STL" />
      </geometry>
    </collision>
  </link>
  <joint
    name="J_Roller_RF_4"
    type="continuous">
    <origin
      xyz="-0.0350017856687344 -0.0350017856687337 0"
      rpy="0 -0.785398163397439 -0.785398163397433" />
    <parent
      link="Wheel_RF" />
    <child
      link="Roller_RF_4" />
    <axis
      xyz="0 0 -1" />
  </joint>
  <link
    name="Roller_RF_5">
    <inertial>
      <origin
        xyz="2.43778411346263E-08 -1.78419561625009E-08 5.60706398533561E-08"
        rpy="0 0 0" />
      <mass
        value="0.0352584429300109" />
      <inertia
        ixx="1.04260758348702E-05"
        ixy="4.44263469091268E-13"
        ixz="2.48069949748611E-11"
        iyy="1.04260761157679E-05"
        iyz="-2.03656966850988E-11"
        izz="3.24617239087806E-06" />
    </inertial>
    <visual>
      <origin
        xyz="0 0 0"
        rpy="0 0 0" />
      <geometry>
        <mesh
          filename="package://Mobile_Base_Holder_6/meshes/Roller_RF_5.STL" />
      </geometry>
      <material
        name="">
        <color
          rgba="0.298039215686275 0.298039215686275 0.298039215686275 1" />
      </material>
    </visual>
    <collision>
      <origin
        xyz="0 0 0"
        rpy="0 0 0" />
      <geometry>
        <mesh
          filename="package://Mobile_Base_Holder_6/meshes/Roller_RF_5.STL" />
      </geometry>
    </collision>
  </link>
  <joint
    name="J_Roller_RF_5"
    type="continuous">
    <origin
      xyz="-0.0495 0 0"
      rpy="0 -0.785398163397448 -1.57079632679488" />
    <parent
      link="Wheel_RF" />
    <child
      link="Roller_RF_5" />
    <axis
      xyz="0 0 -1" />
  </joint>
  <link
    name="Roller_RF_6">
    <inertial>
      <origin
        xyz="-6.38928854268528E-10 -4.335175995962E-09 7.96774444478121E-08"
        rpy="0 0 0" />
      <mass
        value="0.035258442930011" />
      <inertia
        ixx="1.0426073900259E-05"
        ixy="-1.37727080767516E-15"
        ixz="2.87273301347097E-11"
        iyy="1.04260738797584E-05"
        iyz="-1.51581958379692E-11"
        izz="3.24617147943109E-06" />
    </inertial>
    <visual>
      <origin
        xyz="0 0 0"
        rpy="0 0 0" />
      <geometry>
        <mesh
          filename="package://Mobile_Base_Holder_6/meshes/Roller_RF_6.STL" />
      </geometry>
      <material
        name="">
        <color
          rgba="0.298039215686275 0.298039215686275 0.298039215686275 1" />
      </material>
    </visual>
    <collision>
      <origin
        xyz="0 0 0"
        rpy="0 0 0" />
      <geometry>
        <mesh
          filename="package://Mobile_Base_Holder_6/meshes/Roller_RF_6.STL" />
      </geometry>
    </collision>
  </link>
  <joint
    name="J_Roller_RF_6"
    type="continuous">
    <origin
      xyz="-0.0350017856687347 0.035001785668734 0"
      rpy="0 -0.785398163397459 -2.35619449019234" />
    <parent
      link="Wheel_RF" />
    <child
      link="Roller_RF_6" />
    <axis
      xyz="0 0 -1" />
  </joint>
  <link
    name="Roller_RF_7">
    <inertial>
      <origin
        xyz="2.0366544561945E-08 -7.13063064150532E-09 -8.72457231460011E-08"
        rpy="0 0 0" />
      <mass
        value="0.035258442930011" />
      <inertia
        ixx="1.04260733096708E-05"
        ixy="1.54326280191015E-13"
        ixz="2.02542964728518E-12"
        iyy="1.04260736676434E-05"
        iyz="3.23095488289556E-11"
        izz="3.24617193132991E-06" />
    </inertial>
    <visual>
      <origin
        xyz="0 0 0"
        rpy="0 0 0" />
      <geometry>
        <mesh
          filename="package://Mobile_Base_Holder_6/meshes/Roller_RF_7.STL" />
      </geometry>
      <material
        name="">
        <color
          rgba="0.298039215686275 0.298039215686275 0.298039215686275 1" />
      </material>
    </visual>
    <collision>
      <origin
        xyz="0 0 0"
        rpy="0 0 0" />
      <geometry>
        <mesh
          filename="package://Mobile_Base_Holder_6/meshes/Roller_RF_7.STL" />
      </geometry>
    </collision>
  </link>
  <joint
    name="J_Roller_RF_7"
    type="continuous">
    <origin
      xyz="0 0.0495 0"
      rpy="0 -0.785398163397463 3.14159265358979" />
    <parent
      link="Wheel_RF" />
    <child
      link="Roller_RF_7" />
    <axis
      xyz="0 0 -1" />
  </joint>
  <link
    name="Roller_RF_8">
    <inertial>
      <origin
        xyz="2.86524692860723E-10 3.53920168172372E-09 -5.47491037505843E-08"
        rpy="0 0 0" />
      <mass
        value="0.0352584429300108" />
      <inertia
        ixx="1.04260755664592E-05"
        ixy="-1.32125482480734E-15"
        ixz="-1.26525162368787E-11"
        iyy="1.04260755558221E-05"
        iyz="3.00123139373811E-11"
        izz="3.24617146993115E-06" />
    </inertial>
    <visual>
      <origin
        xyz="0 0 0"
        rpy="0 0 0" />
      <geometry>
        <mesh
          filename="package://Mobile_Base_Holder_6/meshes/Roller_RF_8.STL" />
      </geometry>
      <material
        name="">
        <color
          rgba="0.298039215686275 0.298039215686275 0.298039215686275 1" />
      </material>
    </visual>
    <collision>
      <origin
        xyz="0 0 0"
        rpy="0 0 0" />
      <geometry>
        <mesh
          filename="package://Mobile_Base_Holder_6/meshes/Roller_RF_8.STL" />
      </geometry>
    </collision>
  </link>
  <joint
    name="J_Roller_RF_8"
    type="continuous">
    <origin
      xyz="0.0350017856687329 0.0350017856687334 0"
      rpy="0 -0.785398163397459 2.35619449019235" />
    <parent
      link="Wheel_RF" />
    <child
      link="Roller_RF_8" />
    <axis
      xyz="0 0 -1" />
  </joint>
  <link
    name="Wheel_RR">
    <inertial>
      <origin
        xyz="-3.6897172044803E-05 8.73176160257061E-06 -0.000155533212772396"
        rpy="0 0 0" />
      <mass
        value="0.774041107399352" />
      <inertia
        ixx="0.000555071231306981"
        ixy="2.13316469015239E-07"
        ixz="2.79563667310414E-11"
        iyy="0.000555928410599816"
        iyz="-2.88355488444584E-10"
        izz="0.000988906210952547" />
    </inertial>
    <visual>
      <origin
        xyz="0 0 0"
        rpy="0 0 0" />
      <geometry>
        <mesh
          filename="package://Mobile_Base_Holder_6/meshes/Wheel_RR.STL" />
      </geometry>
      <material
        name="">
        <color
          rgba="0.898039215686275 0.917647058823529 0.929411764705882 1" />
      </material>
    </visual>
    <collision>
      <origin
        xyz="0 0 0"
        rpy="0 0 0" />
      <geometry>
        <mesh
          filename="package://Mobile_Base_Holder_6/meshes/Wheel_RR.STL" />
      </geometry>
    </collision>
  </link>
  <joint
    name="J_Wheel_RR"
    type="continuous">
    <origin
      xyz="-0.243373703143013 -0.197 -0.410500520826098"
      rpy="1.5707963267949 0.0225283753887193 -3.14159265358962" />
    <parent
      link="Mobile_Base" />
    <child
      link="Wheel_RR" />
    <axis
      xyz="0 0 1" />
  </joint>
  <link
    name="Roller_RR_1">
    <inertial>
      <origin
        xyz="1.12114789674322E-10 -6.97872593047322E-11 -1.19170277257385E-08"
        rpy="0 0 0" />
      <mass
        value="0.035258442930011" />
      <inertia
        ixx="1.04260769898083E-05"
        ixy="6.06658231713331E-18"
        ixz="3.08085320272346E-11"
        iyy="1.04260769898007E-05"
        iyz="1.0478225912599E-11"
        izz="3.24617145901505E-06" />
    </inertial>
    <visual>
      <origin
        xyz="0 0 0"
        rpy="0 0 0" />
      <geometry>
        <mesh
          filename="package://Mobile_Base_Holder_6/meshes/Roller_RR_1.STL" />
      </geometry>
      <material
        name="">
        <color
          rgba="0.298039215686275 0.298039215686275 0.298039215686275 1" />
      </material>
    </visual>
    <collision>
      <origin
        xyz="0 0 0"
        rpy="0 0 0" />
      <geometry>
        <mesh
          filename="package://Mobile_Base_Holder_6/meshes/Roller_RR_1.STL" />
      </geometry>
    </collision>
  </link>
  <joint
    name="J_Roller_RR_1"
    type="continuous">
    <origin
      xyz="0.049500000000006 0 0"
      rpy="0 -0.785398163397444 -1.57079632679489" />
    <parent
      link="Wheel_RR" />
    <child
      link="Roller_RR_1" />
    <axis
      xyz="0 0 -1" />
  </joint>
  <link
    name="Roller_RR_2">
    <inertial>
      <origin
        xyz="0.0247500321227677 -0.0144981536896033 -0.0247498858505418"
        rpy="0 0 0" />
      <mass
        value="0.0352584429300109" />
      <inertia
        ixx="1.02720859629879E-05"
        ixy="-5.25736174296122E-07"
        ixz="-8.97478853468163E-07"
        iyy="8.63106664499607E-06"
        iyz="-3.06422871372737E-06"
        izz="5.19515582335274E-06" />
    </inertial>
    <visual>
      <origin
        xyz="0 0 0"
        rpy="0 0 0" />
      <geometry>
        <mesh
          filename="package://Mobile_Base_Holder_6/meshes/Roller_RR_2.STL" />
      </geometry>
      <material
        name="">
        <color
          rgba="0.298039215686275 0.298039215686275 0.298039215686275 1" />
      </material>
    </visual>
    <collision>
      <origin
        xyz="0 0 0"
        rpy="0 0 0" />
      <geometry>
        <mesh
          filename="package://Mobile_Base_Holder_6/meshes/Roller_RR_2.STL" />
      </geometry>
    </collision>
  </link>
  <joint
    name="J_Roller_RR_2"
    type="continuous">
    <origin
      xyz="0.049500000000006 0 0"
      rpy="0 -0.785398163397444 -1.57079632679489" />
    <parent
      link="Wheel_RR" />
    <child
      link="Roller_RR_2" />
    <axis
      xyz="-0.146446609406728 -0.5 -0.853553390593274" />
  </joint>
  <link
    name="Roller_RR_3">
    <inertial>
      <origin
        xyz="1.14529011274733E-10 -1.43740908065126E-10 -1.19538481335724E-08"
        rpy="0 0 0" />
      <mass
        value="0.035258442930011" />
      <inertia
        ixx="1.04260769893648E-05"
        ixy="6.43047561220764E-18"
        ixz="3.135428663036E-11"
        iyy="1.04260769893486E-05"
        iyz="-8.71091477927151E-12"
        izz="3.24617145902362E-06" />
    </inertial>
    <visual>
      <origin
        xyz="0 0 0"
        rpy="0 0 0" />
      <geometry>
        <mesh
          filename="package://Mobile_Base_Holder_6/meshes/Roller_RR_3.STL" />
      </geometry>
      <material
        name="">
        <color
          rgba="0.298039215686275 0.298039215686275 0.298039215686275 1" />
      </material>
    </visual>
    <collision>
      <origin
        xyz="0 0 0"
        rpy="0 0 0" />
      <geometry>
        <mesh
          filename="package://Mobile_Base_Holder_6/meshes/Roller_RR_3.STL" />
      </geometry>
    </collision>
  </link>
  <joint
    name="J_Roller_RR_3"
    type="continuous">
    <origin
      xyz="0 -0.0495000000000001 0"
      rpy="0 -0.785398163397275 -3.14159265358962" />
    <parent
      link="Wheel_RR" />
    <child
      link="Roller_RR_3" />
    <axis
      xyz="0 0 -1" />
  </joint>
  <link
    name="Roller_RR_4">
    <inertial>
      <origin
        xyz="2.76238532048723E-09 2.13770798285218E-09 -1.11114659334666E-07"
        rpy="0 0 0" />
      <mass
        value="0.0352584429300108" />
      <inertia
        ixx="1.04260708684055E-05"
        ixy="-4.05622394396635E-15"
        ixz="1.24181842518424E-11"
        iyy="1.04260708725038E-05"
        iyz="3.01041157011414E-11"
        izz="3.24617146788864E-06" />
    </inertial>
    <visual>
      <origin
        xyz="0 0 0"
        rpy="0 0 0" />
      <geometry>
        <mesh
          filename="package://Mobile_Base_Holder_6/meshes/Roller_RR_4.STL" />
      </geometry>
      <material
        name="">
        <color
          rgba="0.298039215686275 0.298039215686275 0.298039215686275 1" />
      </material>
    </visual>
    <collision>
      <origin
        xyz="0 0 0"
        rpy="0 0 0" />
      <geometry>
        <mesh
          filename="package://Mobile_Base_Holder_6/meshes/Roller_RR_4.STL" />
      </geometry>
    </collision>
  </link>
  <joint
    name="J_Roller_RR_4"
    type="continuous">
    <origin
      xyz="-0.0350017856687443 -0.0350017856687639 0"
      rpy="0 -0.785398163397327 2.35619449019265" />
    <parent
      link="Wheel_RR" />
    <child
      link="Roller_RR_4" />
    <axis
      xyz="0 0 -1" />
  </joint>
  <link
    name="Roller_RR_5">
    <inertial>
      <origin
        xyz="4.96390428761373E-11 8.79210593218716E-12 8.75807198985612E-09"
        rpy="0 0 0" />
      <mass
        value="0.0352584429300111" />
      <inertia
        ixx="1.04260770225584E-05"
        ixy="-1.99762132698086E-18"
        ixz="-1.85692606996194E-11"
        iyy="1.04260770225577E-05"
        iyz="2.6723573066859E-11"
        izz="3.24617145900821E-06" />
    </inertial>
    <visual>
      <origin
        xyz="0 0 0"
        rpy="0 0 0" />
      <geometry>
        <mesh
          filename="package://Mobile_Base_Holder_6/meshes/Roller_RR_5.STL" />
      </geometry>
      <material
        name="">
        <color
          rgba="0.298039215686275 0.298039215686275 0.298039215686275 1" />
      </material>
    </visual>
    <collision>
      <origin
        xyz="0 0 0"
        rpy="0 0 0" />
      <geometry>
        <mesh
          filename="package://Mobile_Base_Holder_6/meshes/Roller_RR_5.STL" />
      </geometry>
    </collision>
  </link>
  <joint
    name="J_Roller_RR_5"
    type="continuous">
    <origin
      xyz="-0.0495000000000206 0 0"
      rpy="0 -0.78539816339745 1.57079632679524" />
    <parent
      link="Wheel_RR" />
    <child
      link="Roller_RR_5" />
    <axis
      xyz="0 0 -1" />
  </joint>
  <link
    name="Roller_RR_6">
    <inertial>
      <origin
        xyz="-5.57324551786476E-09 2.04404754233778E-09 -1.28496821960589E-07"
        rpy="0 0 0" />
      <mass
        value="0.0352584429300109" />
      <inertia
        ixx="1.04260687757173E-05"
        ixy="7.73717502284936E-15"
        ixz="-1.85253924061901E-11"
        iyy="1.0426068800802E-05"
        iyz="2.68437436203528E-11"
        izz="3.24617148814881E-06" />
    </inertial>
    <visual>
      <origin
        xyz="0 0 0"
        rpy="0 0 0" />
      <geometry>
        <mesh
          filename="package://Mobile_Base_Holder_6/meshes/Roller_RR_6.STL" />
      </geometry>
      <material
        name="">
        <color
          rgba="0.298039215686275 0.298039215686275 0.298039215686275 1" />
      </material>
    </visual>
    <collision>
      <origin
        xyz="0 0 0"
        rpy="0 0 0" />
      <geometry>
        <mesh
          filename="package://Mobile_Base_Holder_6/meshes/Roller_RR_6.STL" />
      </geometry>
    </collision>
  </link>
  <joint
    name="J_Roller_RR_6"
    type="continuous">
    <origin
      xyz="-0.0350017856687212 0.0350017856687237 0"
      rpy="0 -0.785398163397572 0.78539816339774" />
    <parent
      link="Wheel_RR" />
    <child
      link="Roller_RR_6" />
    <axis
      xyz="0 0 -1" />
  </joint>
  <link
    name="Roller_RR_7">
    <inertial>
      <origin
        xyz="1.18025478279549E-10 1.32408584097021E-10 1.20856665924984E-08"
        rpy="0 0 0" />
      <mass
        value="0.0352584429300108" />
      <inertia
        ixx="1.04260769877755E-05"
        ixy="-6.49989260921309E-18"
        ixz="-3.19602978087345E-11"
        iyy="1.0426076987761E-05"
        iyz="-6.12441084700149E-12"
        izz="3.24617145902205E-06" />
    </inertial>
    <visual>
      <origin
        xyz="0 0 0"
        rpy="0 0 0" />
      <geometry>
        <mesh
          filename="package://Mobile_Base_Holder_6/meshes/Roller_RR_7.STL" />
      </geometry>
      <material
        name="">
        <color
          rgba="0.298039215686275 0.298039215686275 0.298039215686275 1" />
      </material>
    </visual>
    <collision>
      <origin
        xyz="0 0 0"
        rpy="0 0 0" />
      <geometry>
        <mesh
          filename="package://Mobile_Base_Holder_6/meshes/Roller_RR_7.STL" />
      </geometry>
    </collision>
  </link>
  <joint
    name="J_Roller_RR_7"
    type="continuous">
    <origin
      xyz="0 0.0494999999999669 0"
      rpy="0 -0.78539816339762 0" />
    <parent
      link="Wheel_RR" />
    <child
      link="Roller_RR_7" />
    <axis
      xyz="0 0 -1" />
  </joint>
  <link
    name="Roller_RR_8">
    <inertial>
      <origin
        xyz="-1.74573559219571E-08 -8.01624572277504E-10 9.90356089913824E-08"
        rpy="0 0 0" />
      <mass
        value="0.035258442930011" />
      <inertia
        ixx="1.04260721421412E-05"
        ixy="-2.24826665582047E-14"
        ixz="5.61434170959108E-12"
        iyy="1.04260724436141E-05"
        iyz="-3.20575856409404E-11"
        izz="3.24617176333256E-06" />
    </inertial>
    <visual>
      <origin
        xyz="0 0 0"
        rpy="0 0 0" />
      <geometry>
        <mesh
          filename="package://Mobile_Base_Holder_6/meshes/Roller_RR_8.STL" />
      </geometry>
      <material
        name="">
        <color
          rgba="0.298039215686275 0.298039215686275 0.298039215686275 1" />
      </material>
    </visual>
    <collision>
      <origin
        xyz="0 0 0"
        rpy="0 0 0" />
      <geometry>
        <mesh
          filename="package://Mobile_Base_Holder_6/meshes/Roller_RR_8.STL" />
      </geometry>
    </collision>
  </link>
  <joint
    name="J_Roller_RR_8"
    type="continuous">
    <origin
      xyz="0.0350017856687396 0.0350017856687503 0"
      rpy="0 -0.785398163397566 -0.785398163397389" />
    <parent
      link="Wheel_RR" />
    <child
      link="Roller_RR_8" />
    <axis
      xyz="0 0 -1" />
  </joint>
  <link
    name="Pin_Head_L">
    <inertial>
      <origin
        xyz="2.1559243279512E-10 -0.0321906491972987 -0.0458464269660464"
        rpy="0 0 0" />
      <mass
        value="1.48466823730085" />
      <inertia
        ixx="0.0119893258639138"
        ixy="-6.29977450022121E-13"
        ixz="-2.11071844261683E-11"
        iyy="0.00224564184360829"
        iyz="-6.50425726210649E-11"
        izz="0.00987450416832168" />
    </inertial>
    <visual>
      <origin
        xyz="0 0 0"
        rpy="0 0 0" />
      <geometry>
        <mesh
          filename="package://Mobile_Base_Holder_6/meshes/Pin_Head_L.STL" />
      </geometry>
      <material
        name="">
        <color
          rgba="0.898039215686275 0.917647058823529 0.929411764705882 1" />
      </material>
    </visual>
    <collision>
      <origin
        xyz="0 0 0"
        rpy="0 0 0" />
      <geometry>
        <mesh
          filename="package://Mobile_Base_Holder_6/meshes/Pin_Head_L.STL" />
      </geometry>
    </collision>
  </link>
  <joint
    name="J_Pin_Head_L"
    type="prismatic">
    <origin
      xyz="0.04 0.2352 0.06"
      rpy="4.71365 -1.5708 0" />
    <parent
      link="Mobile_Base" />
    <child
      link="Pin_Head_L" />
    <axis
      xyz="0 0 1" />
    <limit
      lower="0"
      upper="0.07"
      effort="0"
      velocity="0" />
  </joint>
  <link
    name="Pin_Head_R">
    <inertial>
      <origin
        xyz="-2.1559198870591E-10 0.0321906491972989 -0.0458464269660465"
        rpy="0 0 0" />
      <mass
        value="1.48466823730085" />
      <inertia
        ixx="0.0119893258639138"
        ixy="-6.29978075149543E-13"
        ixz="2.1107197896332E-11"
        iyy="0.00224564184360829"
        iyz="6.50425742700792E-11"
        izz="0.00987450416832168" />
    </inertial>
    <visual>
      <origin
        xyz="0 0 0"
        rpy="0 0 0" />
      <geometry>
        <mesh
          filename="package://Mobile_Base_Holder_6/meshes/Pin_Head_R.STL" />
      </geometry>
      <material
        name="">
        <color
          rgba="0.898039215686275 0.917647058823529 0.929411764705882 1" />
      </material>
    </visual>
    <collision>
      <origin
        xyz="0 0 0"
        rpy="0 0 0" />
      <geometry>
        <mesh
          filename="package://Mobile_Base_Holder_6/meshes/Pin_Head_R.STL" />
      </geometry>
    </collision>
  </link>
  <joint
    name="J_Pin_Head_R"
    type="prismatic">
    <origin
      xyz="-0.04 -0.2335 0.06"
      rpy="1.5708 1.5708 0" />
    <parent
      link="Mobile_Base" />
    <child
      link="Pin_Head_R" />
    <axis
      xyz="0 0 1" />
    <limit
      lower="0"
      upper="0.07"
      effort="0"
      velocity="0" />
  </joint>
</robot>
